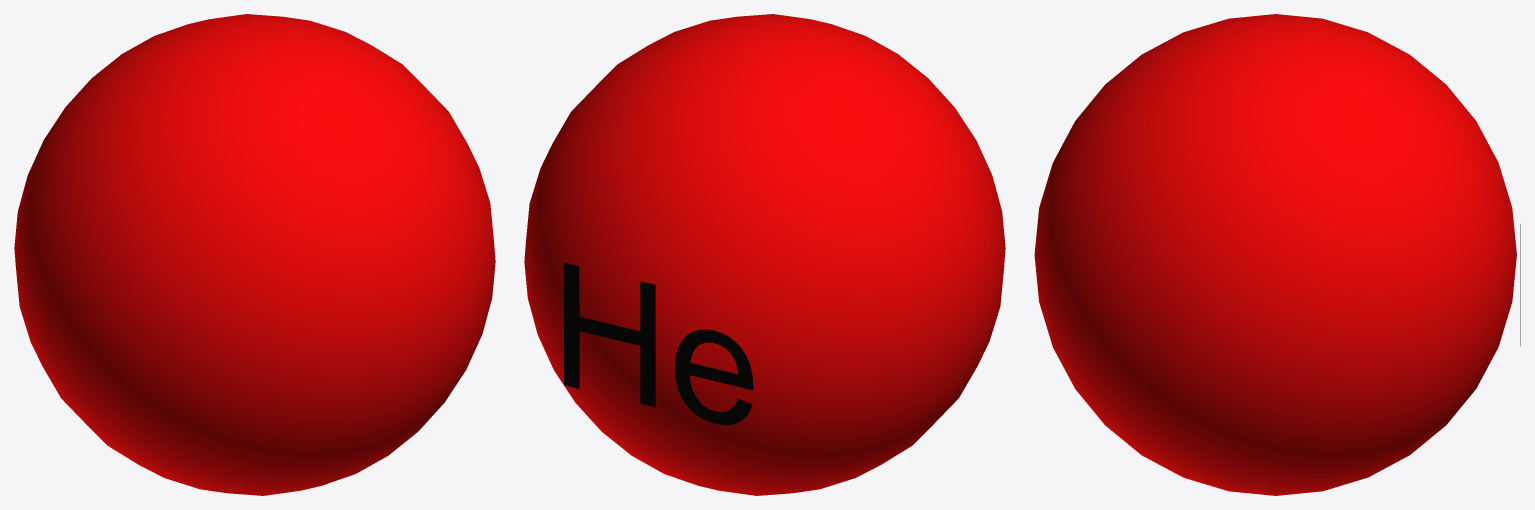
The picture shows the model from 3 angles, left to right: view 1: azimuth 30°, elevation 25°; view 2: azimuth 150°, elevation 25°; view 3: azimuth 270°, elevation 25°; orthographic projection.
Parts seen in each view (by area): view 1: Sphere002; view 2: Sphere002, Text002; view 3: Sphere002.
Boxes of the visible parts, x1=… form: Sphere002: x1=14, y1=14, x2=495, y2=495; Sphere002: x1=524, y1=14, x2=1005, y2=495; Text002: x1=564, y1=262, x2=753, y2=425; Sphere002: x1=1034, y1=14, x2=1516, y2=495.
Bounding box in the file's own units: 80 × 80 × 80.59.
